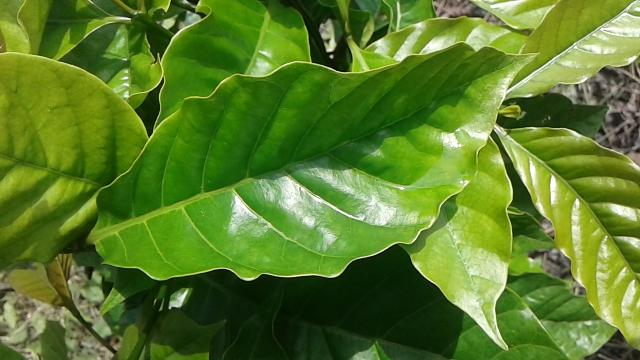healthy: (88, 52, 540, 279)
